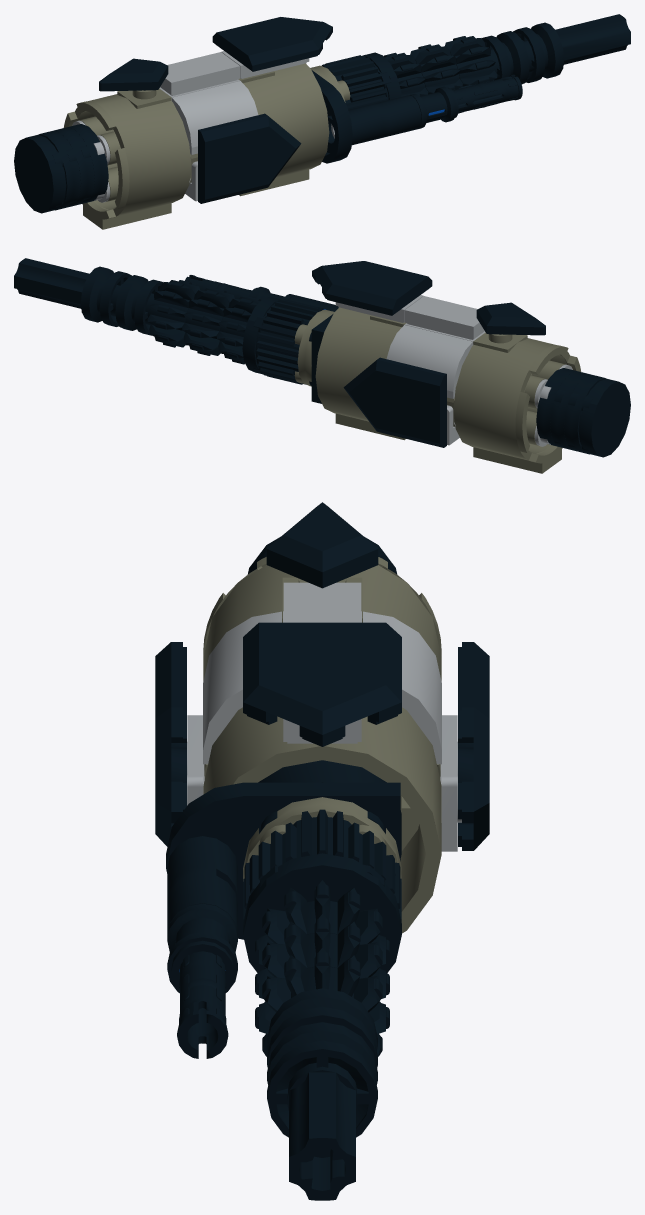
File: BaseWeapon-Right.fbx
The picture shows the model from 3 angles, top to bottom: view 1: azimuth 30°, elevation 25°; view 2: azimuth 150°, elevation 25°; view 3: azimuth 270°, elevation 25°; orthographic projection. The views are drawn at different scales.
Visible parts, largest first — view 1: BW-Brick-35, BW-Brick-05, BW-Brick-08, BW-Brick-12, BW-Brick-03, BW-Brick-20, BW-Brick-23, BW-Brick-19, BW-Brick-00, BW-Brick-33, BW-Brick-24, BW-Brick-30 (+12 smaller); view 2: BW-Brick-35, BW-Brick-06, BW-Brick-08, BW-Brick-33, BW-Brick-12, BW-Brick-04, BW-Brick-23, BW-Brick-27, BW-Brick-26, BW-Brick-00, BW-Brick-24, BW-Brick-25 (+12 smaller); view 3: BW-Brick-35, BW-Brick-08, BW-Brick-30, BW-Brick-20, BW-Brick-23, BW-Brick-24, BW-Brick-31, BW-Brick-06, BW-Brick-33, BW-Brick-05, BW-Brick-07, BW-Brick-26 (+11 smaller).
Boxes of the visible parts, x1,y1,x2,y2 form: BW-Brick-35: (63, 63, 329, 229); BW-Brick-05: (198, 113, 301, 203); BW-Brick-08: (212, 17, 332, 71); BW-Brick-12: (14, 134, 66, 213); BW-Brick-03: (172, 81, 258, 154); BW-Brick-20: (410, 74, 522, 129); BW-Brick-23: (555, 14, 630, 64); BW-Brick-19: (348, 95, 421, 145); BW-Brick-00: (160, 52, 240, 95); BW-Brick-33: (321, 55, 391, 109); BW-Brick-24: (513, 22, 564, 82); BW-Brick-30: (311, 70, 352, 163); BW-Brick-35: (315, 307, 581, 473); BW-Brick-06: (343, 357, 446, 447); BW-Brick-08: (312, 261, 432, 315); BW-Brick-33: (253, 299, 323, 384); BW-Brick-12: (578, 378, 630, 457); BW-Brick-04: (386, 325, 472, 398); BW-Brick-23: (14, 258, 89, 308); BW-Brick-27: (182, 288, 234, 355); BW-Brick-26: (147, 280, 199, 347); BW-Brick-00: (404, 296, 484, 339); BW-Brick-24: (80, 266, 131, 326); BW-Brick-25: (115, 275, 162, 335); BW-Brick-35: (203, 557, 441, 933); BW-Brick-08: (243, 622, 401, 746); BW-Brick-30: (166, 782, 400, 939); BW-Brick-20: (167, 903, 237, 1058); BW-Brick-23: (289, 1071, 355, 1200); BW-Brick-24: (267, 1022, 377, 1137); BW-Brick-31: (243, 853, 401, 973); BW-Brick-06: (458, 642, 489, 850); BW-Brick-33: (243, 809, 401, 921); BW-Brick-05: (155, 642, 186, 846); BW-Brick-07: (266, 502, 378, 588); BW-Brick-26: (255, 947, 389, 1056).
Bounding box in the file's own units: 1362 × 320 × 335.
